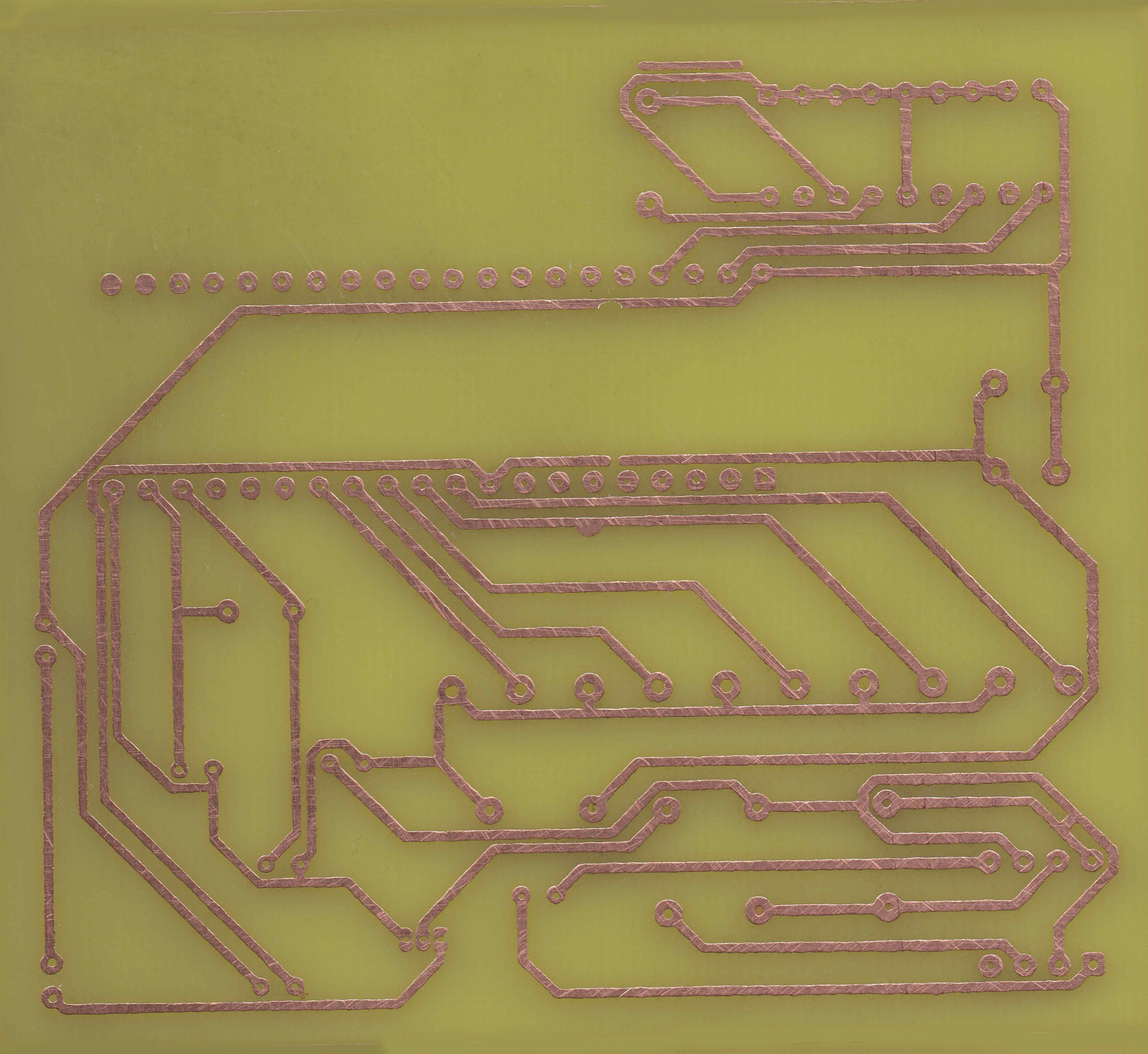missing_hole: (432, 925, 452, 953)
mouse_bite: (595, 293, 625, 312)
open_circuit: (603, 450, 626, 468)
short: (1058, 808, 1081, 837)
spur: (573, 514, 607, 540)
spurious_copper: (635, 57, 746, 71)
